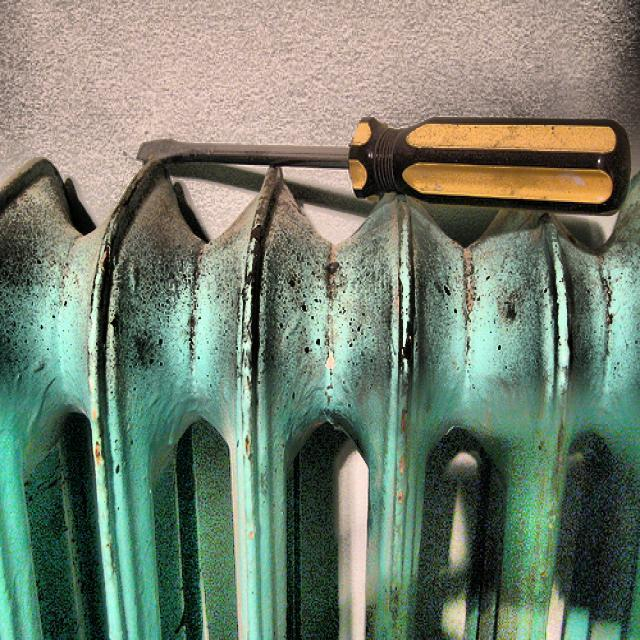screwdriver: (136, 119, 633, 219)
